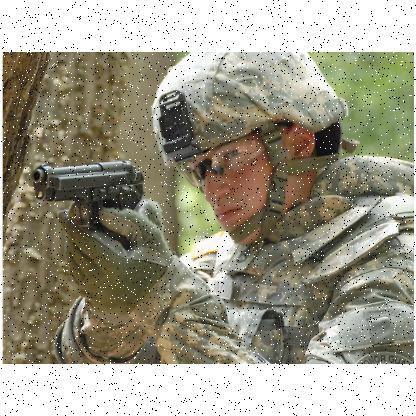gun: (30, 158, 148, 272)
